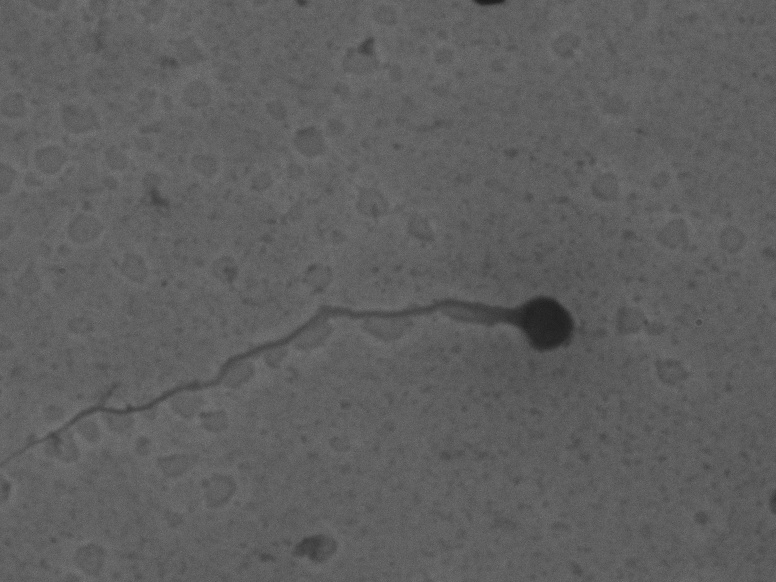Abnormal: (35, 277, 603, 450)
